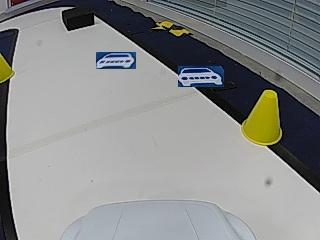block: (61, 6, 94, 31)
cone: (242, 90, 283, 145)
